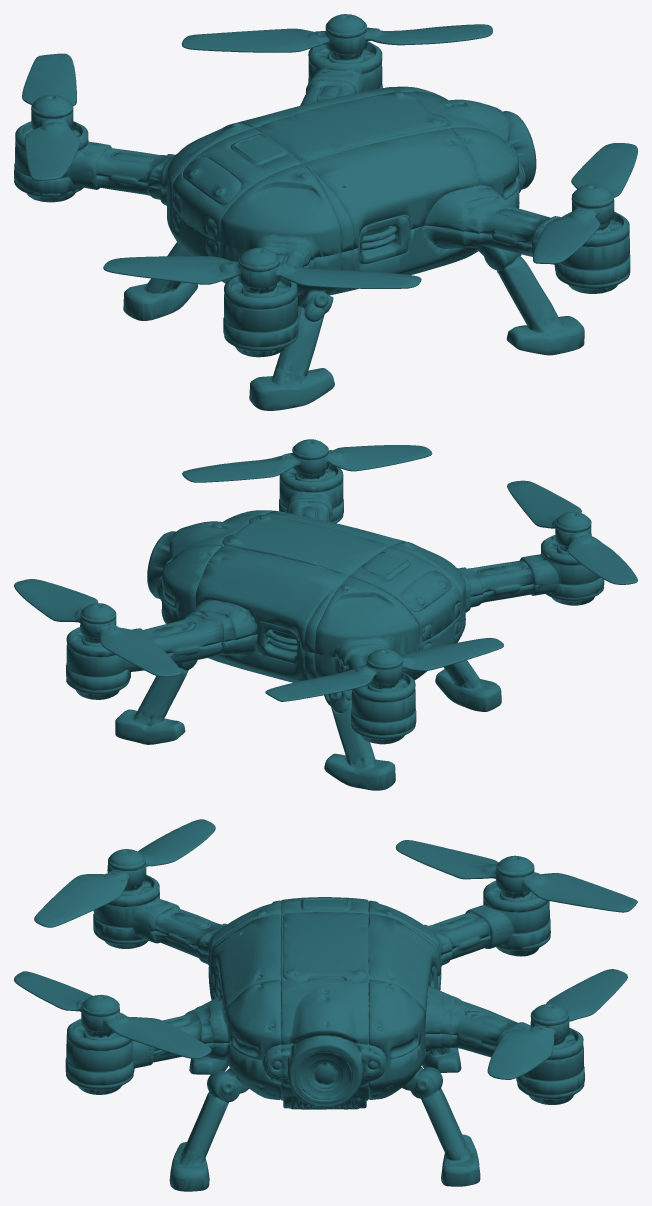
Rendered from gen-drone-quadcopter-1.glb.
The picture shows the model from 3 angles, top to bottom: view 1: azimuth 30°, elevation 25°; view 2: azimuth 150°, elevation 25°; view 3: azimuth 270°, elevation 25°; orthographic projection. The views are drawn at different scales.
Parts seen in each view (by area): view 1: gen-drone-quadcopter-1_part1; view 2: gen-drone-quadcopter-1_part1; view 3: gen-drone-quadcopter-1_part1.
Boxes of the visible parts, x1,y1,x2,y2 form: gen-drone-quadcopter-1_part1: [14, 14, 637, 410]; gen-drone-quadcopter-1_part1: [14, 439, 637, 790]; gen-drone-quadcopter-1_part1: [14, 819, 637, 1191].
Size of the model in its own units: 1309 by 454 by 1401.
